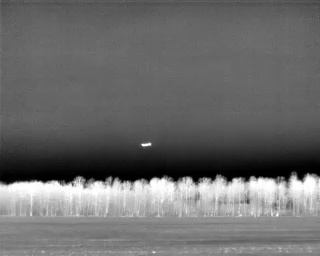DRONE: (137, 137, 156, 152)
